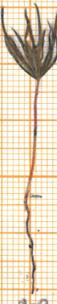flower: (0, 0, 57, 82)
root: (18, 196, 42, 297)
stem: (20, 83, 42, 197)
